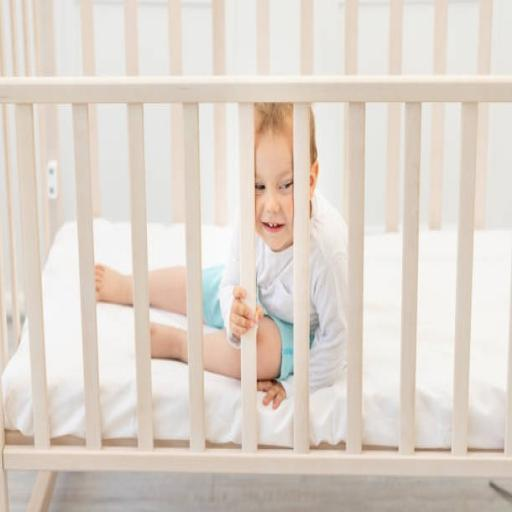baby: (203, 104, 293, 407)
crib: (0, 0, 511, 509)
